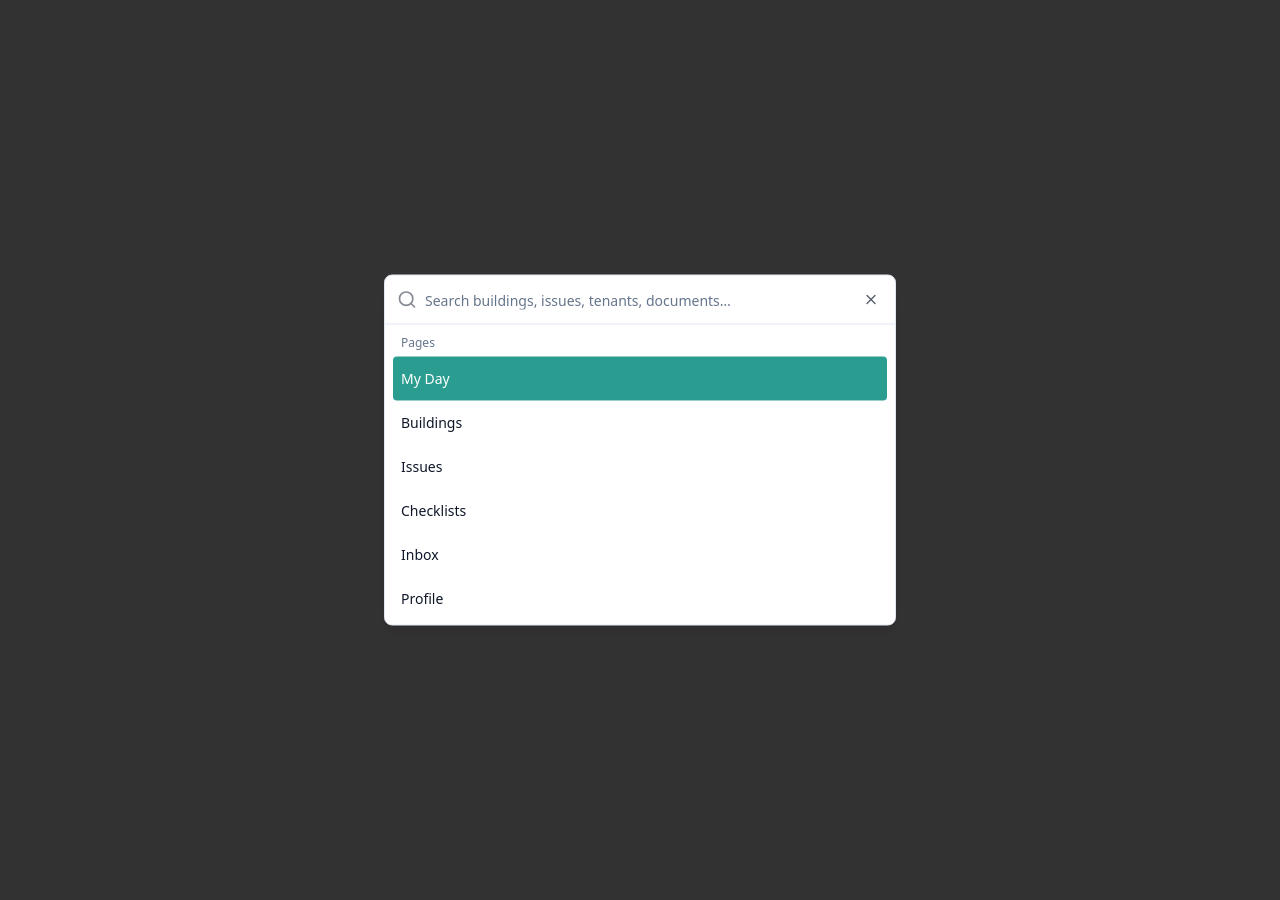
Test case: CommandPalette › asks for two characters when a one-character query matches no page
Type "z" into the dropdown with placeholder "Search buildings, issues, tenants, documents…" at (654, 300), box [425,276,883,324]
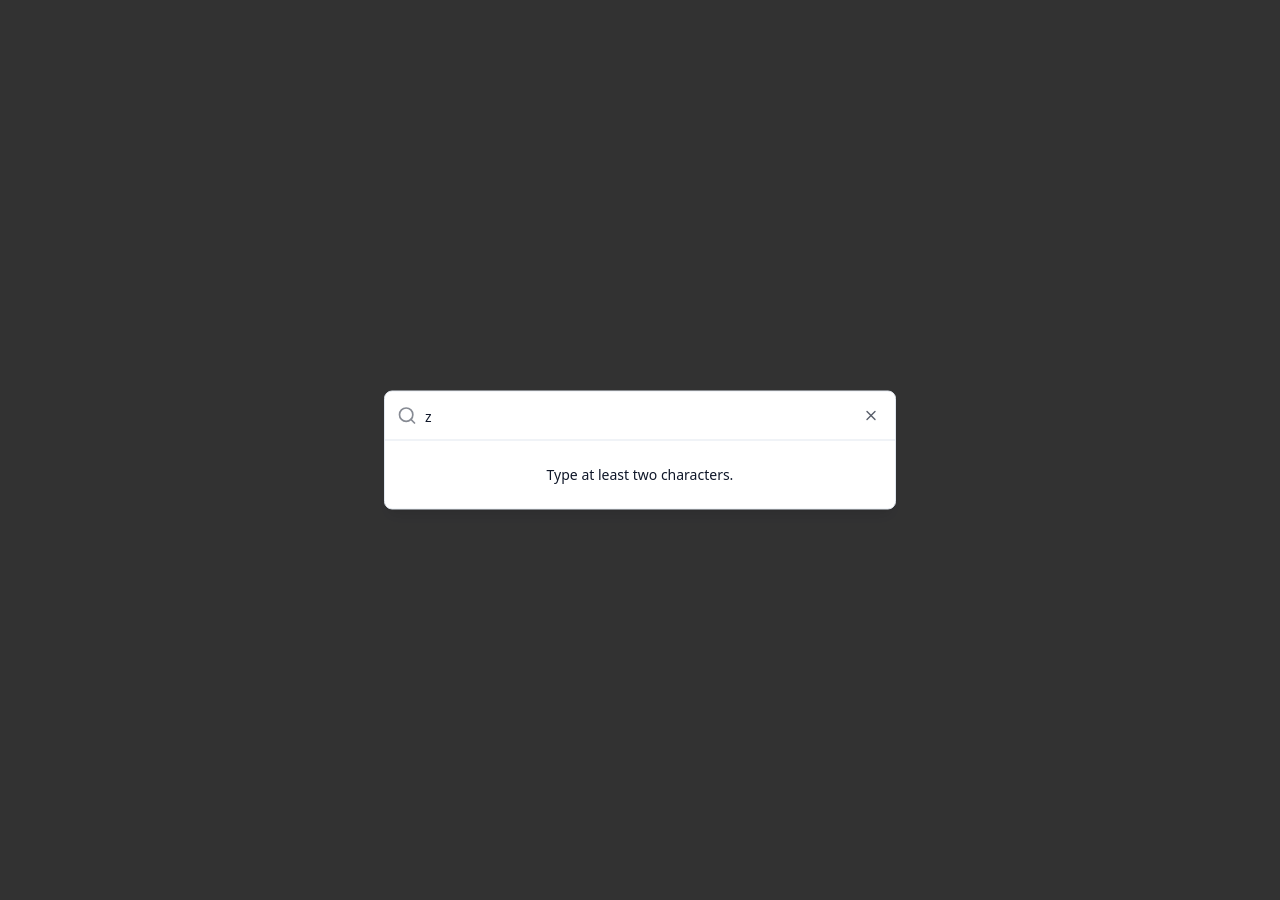
Expected: the text "Type at least two characters." is shown, [547,464,733,484]
